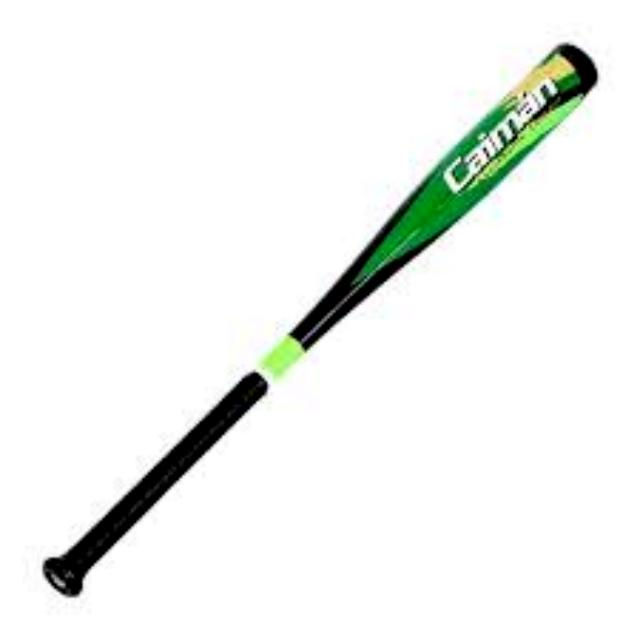baseball bat: (40, 40, 598, 598)
